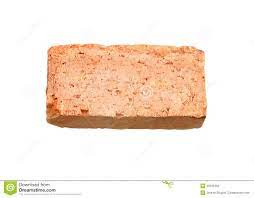brick: (45, 44, 208, 131)
